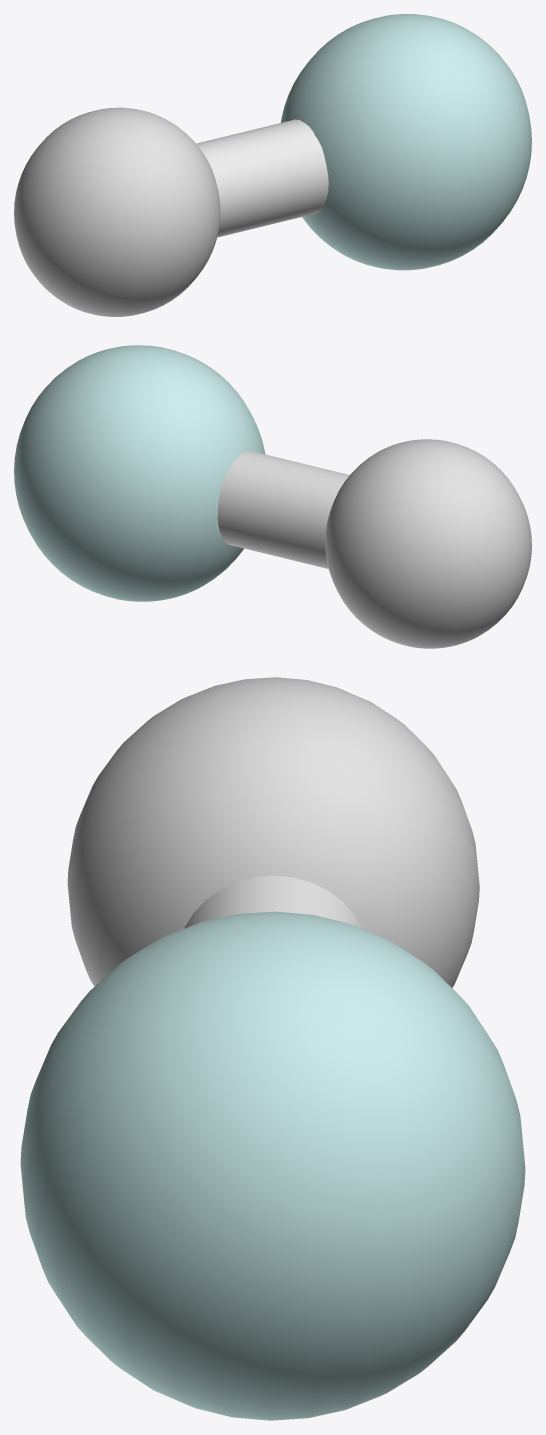
3 renders of one model, top to bottom at view 1: azimuth 30°, elevation 25°; view 2: azimuth 150°, elevation 25°; view 3: azimuth 270°, elevation 25°, orthographic. The views are drawn at different scales.
Parts seen in each view (by area): view 1: HF; view 2: HF; view 3: HF.
Part boxes in pixels (box(x1,y1,x2,y2)): HF: box(14, 14, 531, 316); HF: box(14, 345, 531, 648); HF: box(20, 677, 525, 1420).
Bounding box in the file's own units: 1.6 × 0.7284 × 0.7173.
